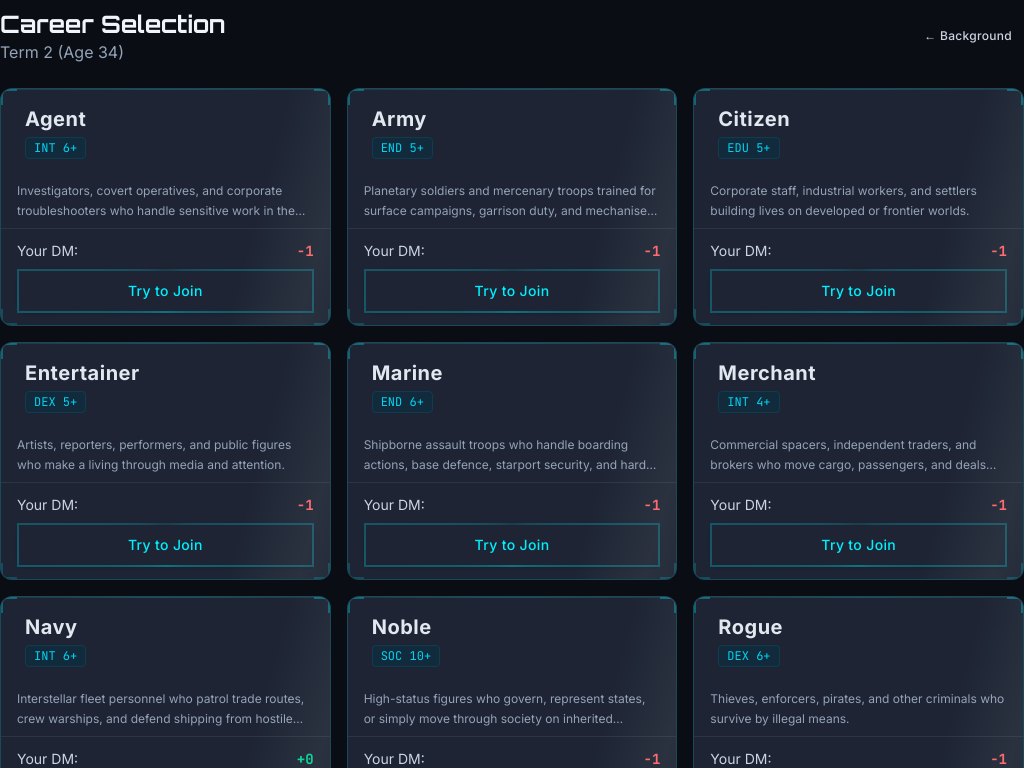
auto-fails qualification after surviving an ageing crisis even with a winning roll
Click the button "Try to Join" below "Agent" at (165, 291), box [17,269,314,313]
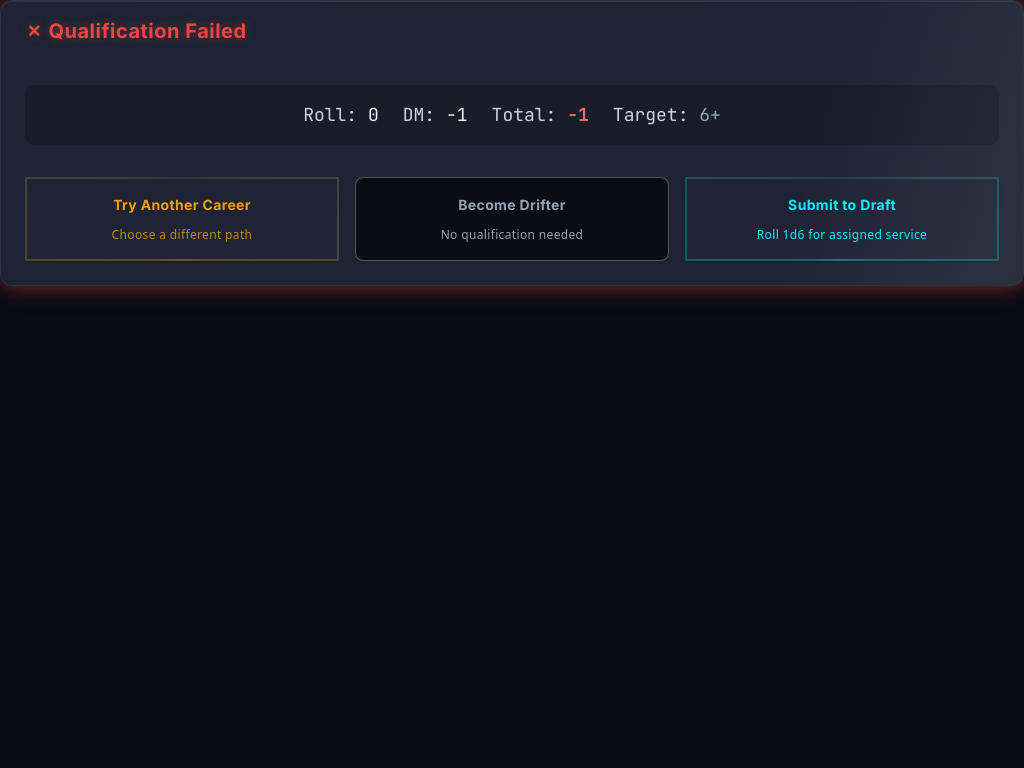
Expected: the heading "✗ Qualification Failed" is shown, [25,17,247,45]
